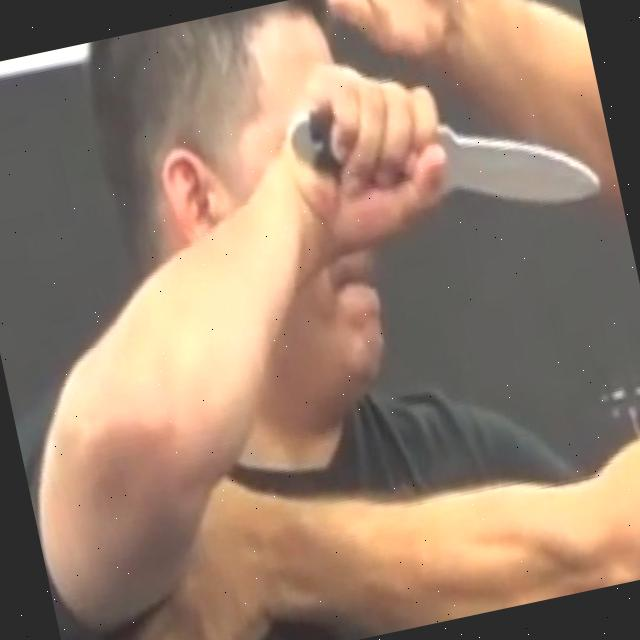suspicion: (0, 4, 640, 624), (440, 97, 608, 230), (283, 108, 336, 174)
